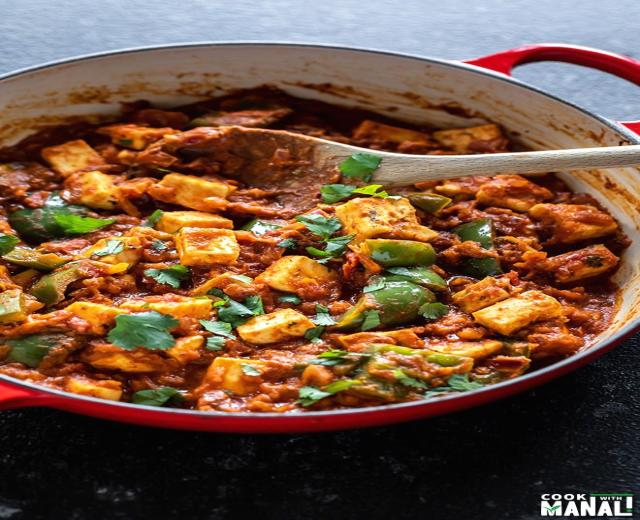kadai paneer: (0, 88, 630, 412)
